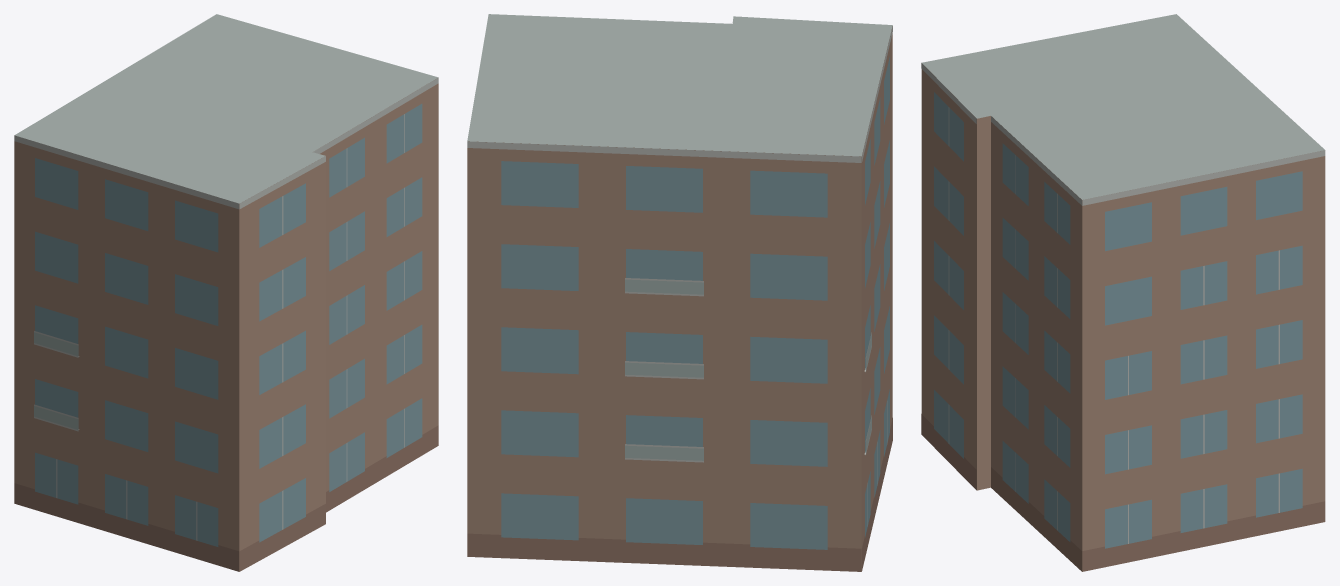
Rendered from survey-upis-33038928.glb.
The picture shows the model from 3 angles, left to right: view 1: azimuth 30°, elevation 25°; view 2: azimuth 150°, elevation 25°; view 3: azimuth 270°, elevation 25°; orthographic projection. The views are drawn at different scales.
Parts seen in each view (by area): view 1: survey-upis-33038928.tmp; view 2: survey-upis-33038928.tmp; view 3: survey-upis-33038928.tmp.
Part boxes in pixels (bbox=[...]): survey-upis-33038928.tmp: bbox=[14, 14, 438, 571]; survey-upis-33038928.tmp: bbox=[467, 14, 892, 571]; survey-upis-33038928.tmp: bbox=[921, 14, 1325, 571].
Bounding box in the file's own units: 16.53 × 15.4 × 15.17.
